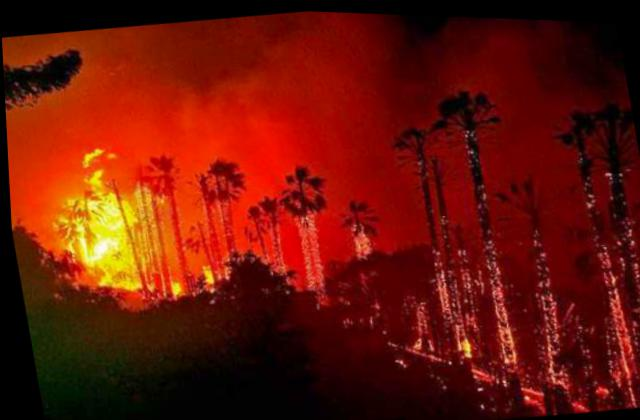fire: (402, 218, 639, 419), (38, 140, 146, 300), (165, 271, 184, 298), (199, 261, 216, 289)
